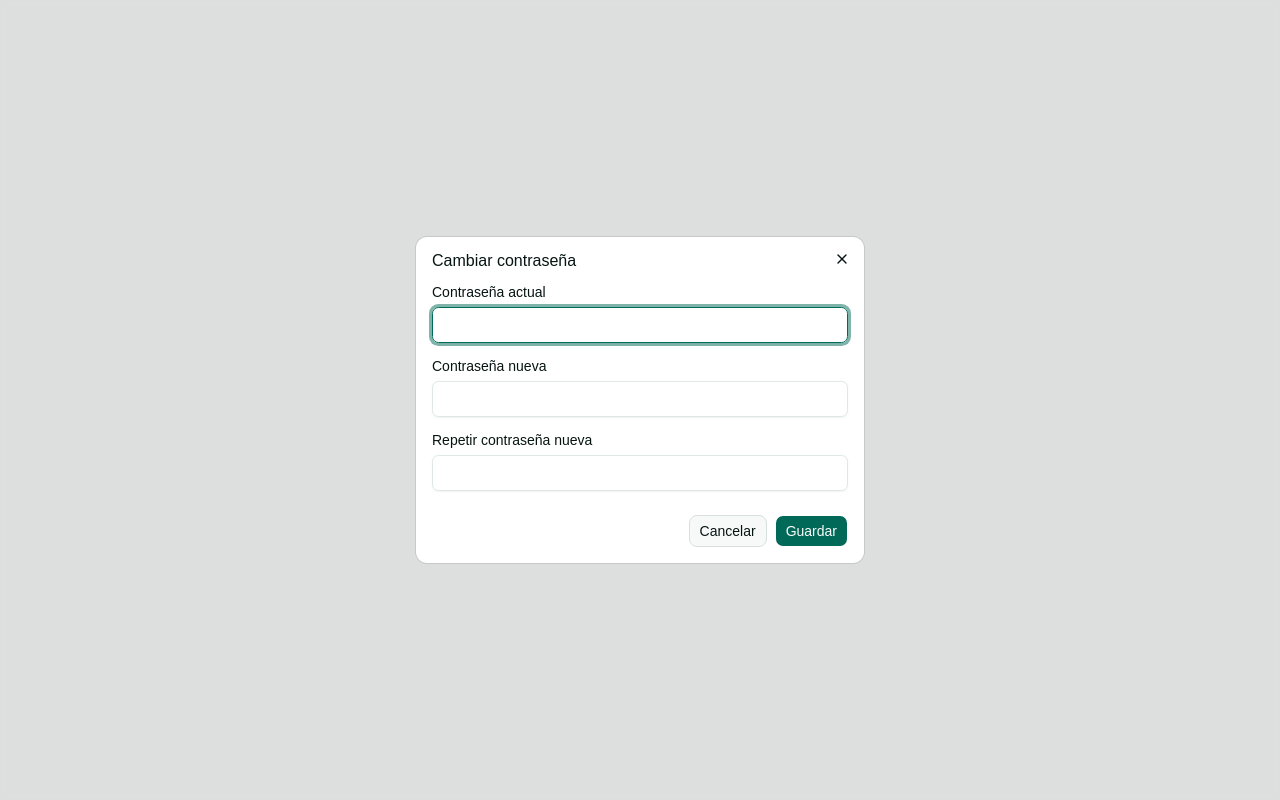
Test: flujo exitoso › deshabilita el botón mientras la request está en vuelo
Step 1. Type "actual-123" into the password field labelled "Contraseña actual" → (640, 325), box 432,307 -> 848,343
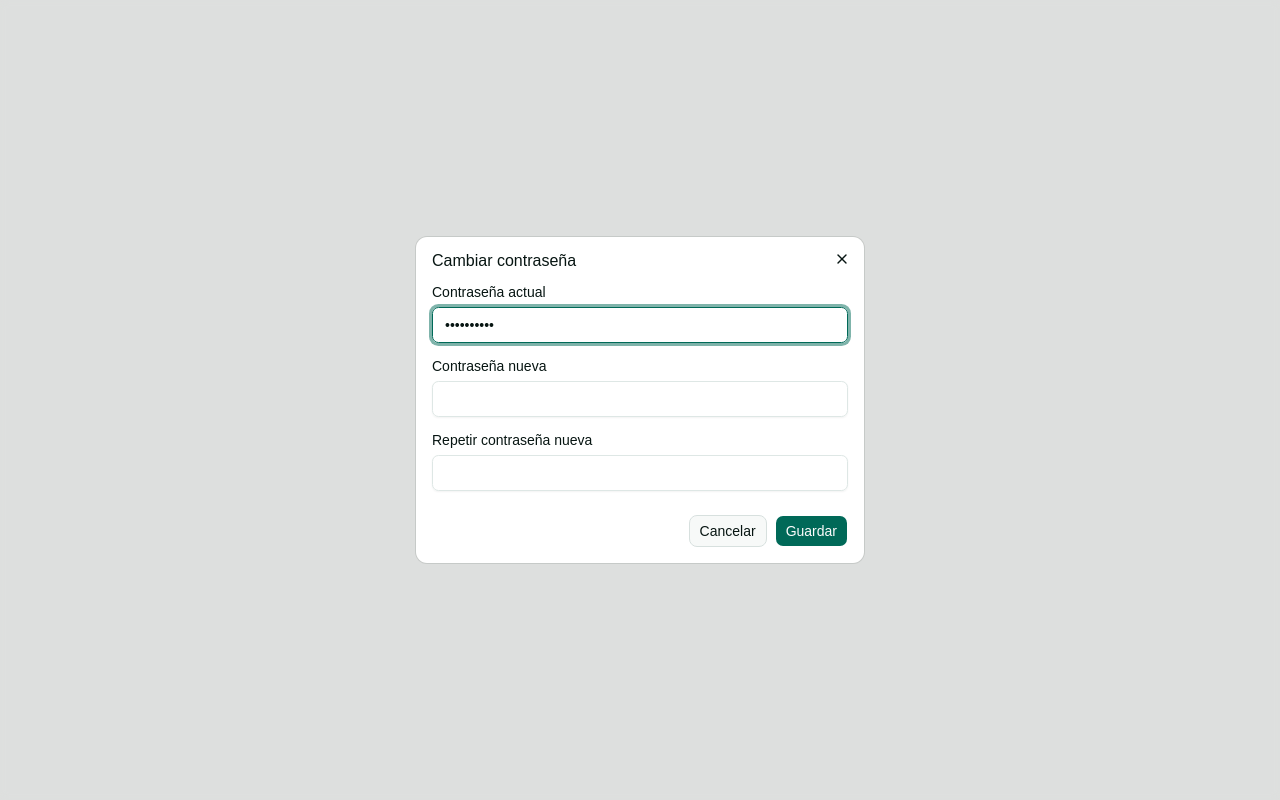
Step 2. Type "nueva-segura-1" into the password field labelled "Contraseña nueva" → (640, 399), box 432,381 -> 848,417
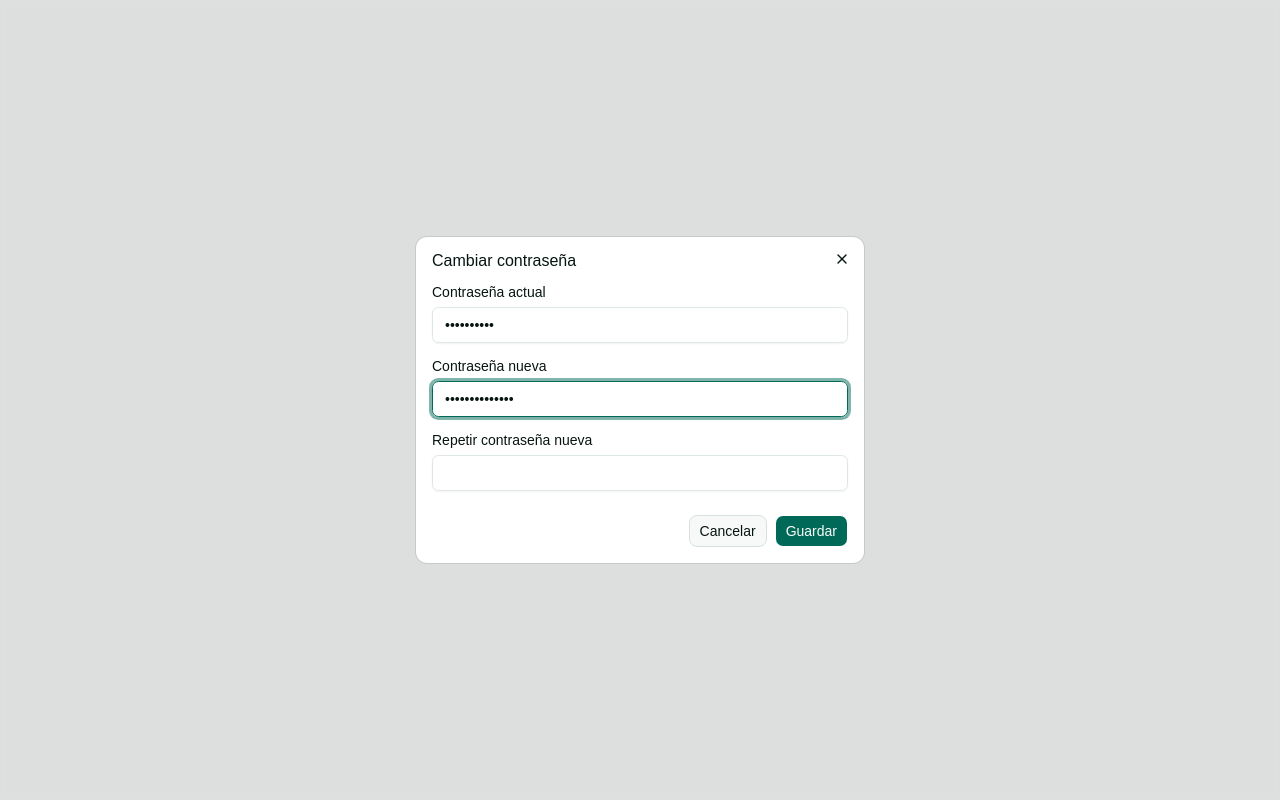
Step 3. Type "nueva-segura-1" into the password field labelled "Repetir contraseña nueva" → (640, 473), box 432,455 -> 848,491
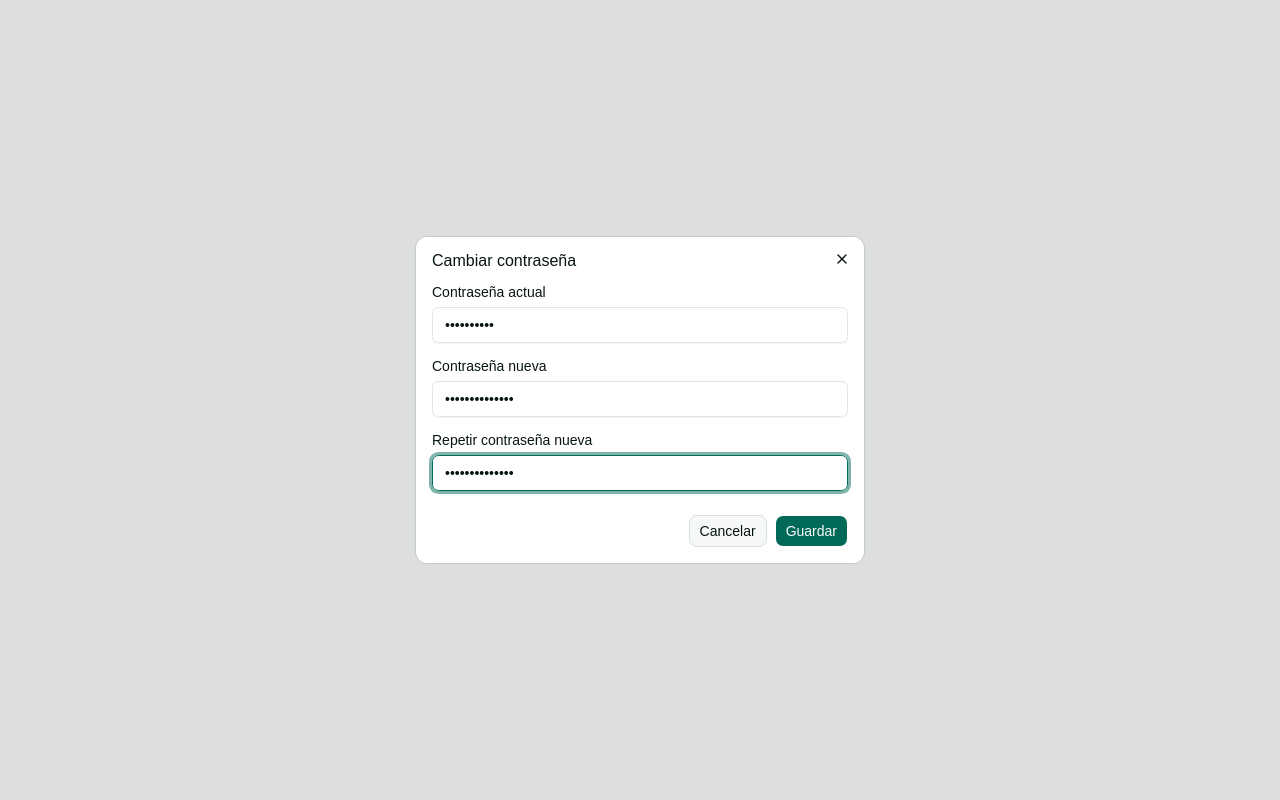
Step 4. Click the button "Guardar" → (811, 531), box 775,515 -> 848,547
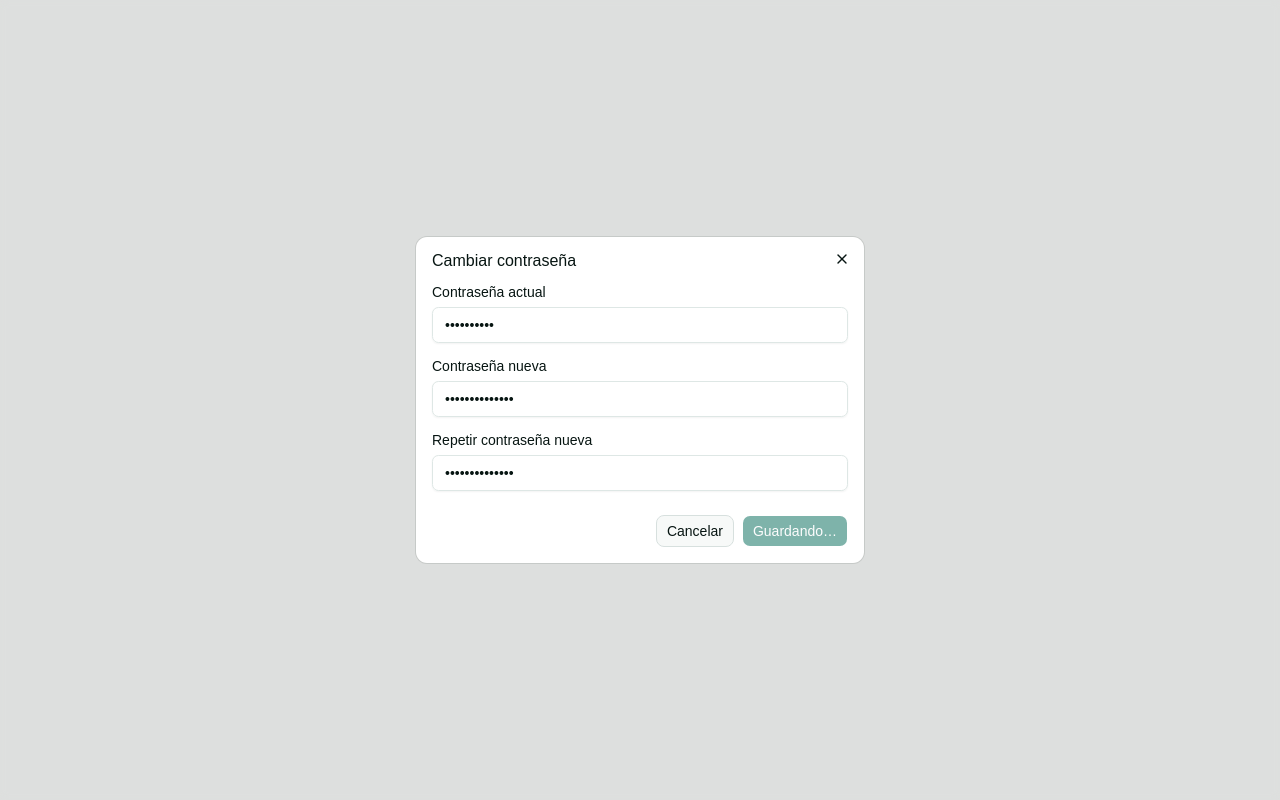
expect the button "Guardando…" is disabled: met, box 742,515 -> 848,547
